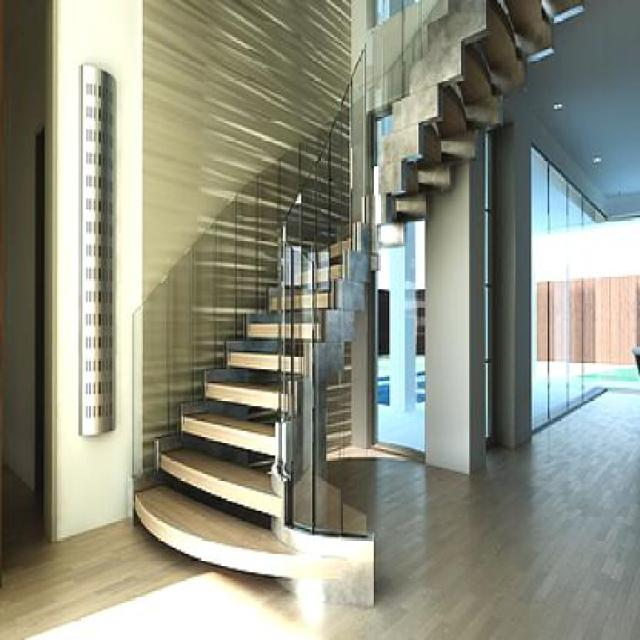stair: (126, 21, 380, 614)
